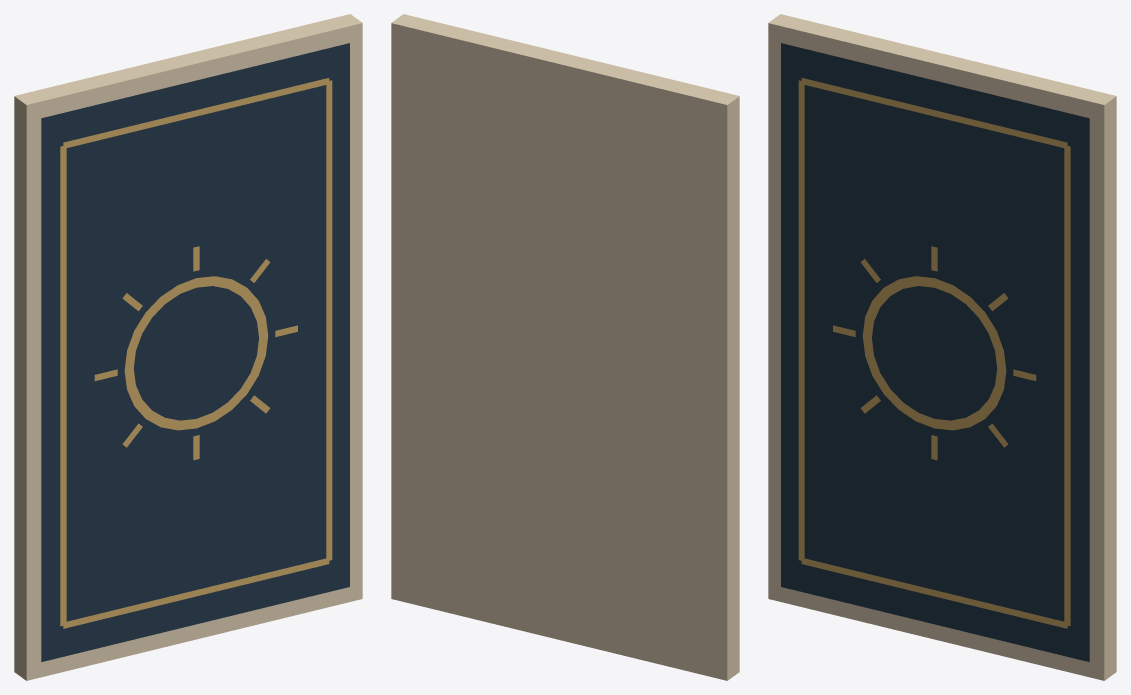
The model's file is tarot-back.glb.
The picture shows the model from 3 angles, left to right: view 1: azimuth 30°, elevation 25°; view 2: azimuth 150°, elevation 25°; view 3: azimuth 330°, elevation 25°; orthographic projection.
Parts seen in each view (by area): view 1: Anonymous_tarot_back_Ink_blue, Anonymous_tarot_back_Warm_linen, Anonymous_tarot_back_Brushed_brass; view 2: Anonymous_tarot_back_Warm_linen; view 3: Anonymous_tarot_back_Ink_blue, Anonymous_tarot_back_Warm_linen, Anonymous_tarot_back_Brushed_brass.
Boxes of the visible parts, left/top/right/bottom form: Anonymous_tarot_back_Ink_blue: left=41, top=43, right=349, bottom=661; Anonymous_tarot_back_Warm_linen: left=14, top=14, right=362, bottom=680; Anonymous_tarot_back_Brushed_brass: left=60, top=78, right=332, bottom=628; Anonymous_tarot_back_Warm_linen: left=391, top=14, right=739, bottom=680; Anonymous_tarot_back_Ink_blue: left=781, top=43, right=1089, bottom=661; Anonymous_tarot_back_Warm_linen: left=768, top=14, right=1116, bottom=680; Anonymous_tarot_back_Brushed_brass: left=798, top=78, right=1070, bottom=628.
Bounding box in the file's own units: 0.22 × 0.36 × 0.016.
